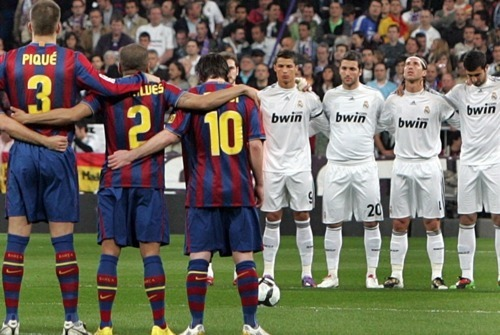barcelona: (2, 2, 93, 335), (171, 43, 274, 335), (81, 34, 178, 334)
realmadrid: (305, 48, 389, 293), (376, 51, 451, 294), (246, 49, 318, 293), (440, 49, 500, 296)
